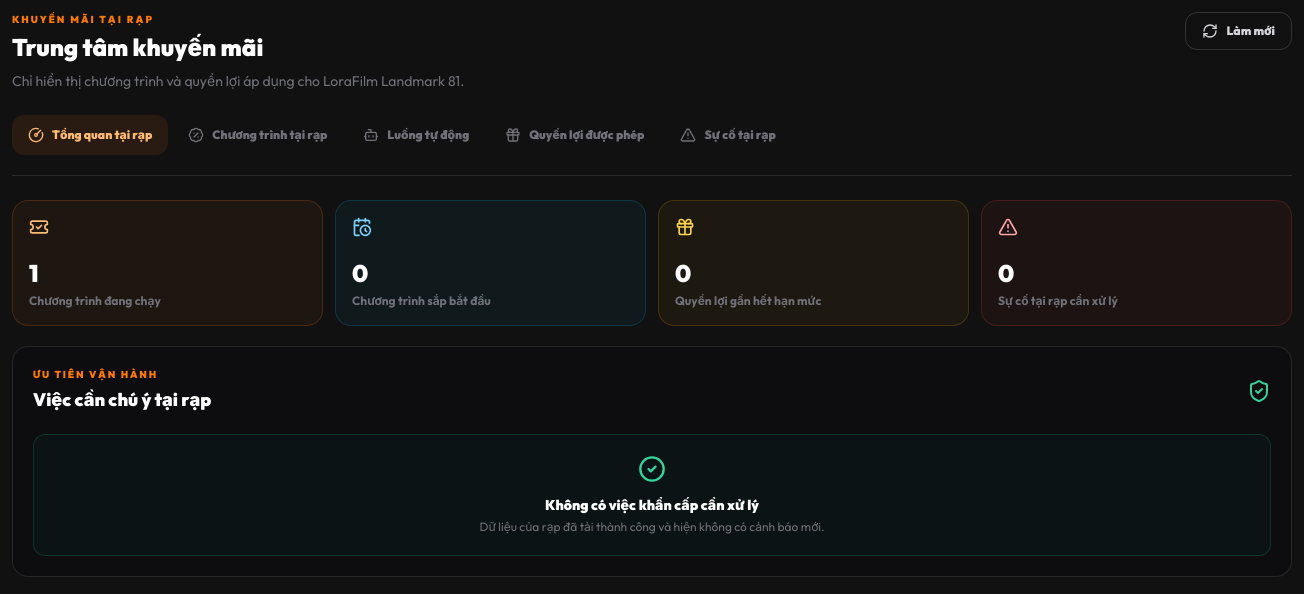
Test case: ManagerPromotionCenterPage › renders access denied without a false empty success when a request returns 403
Check: the text "Không có việc khẩn cấp cần xử lý" is shown, box [545,496,759,514]
Click the button "Chương trình tại rạp".
click(258, 135)  # box [172,115,343,155]
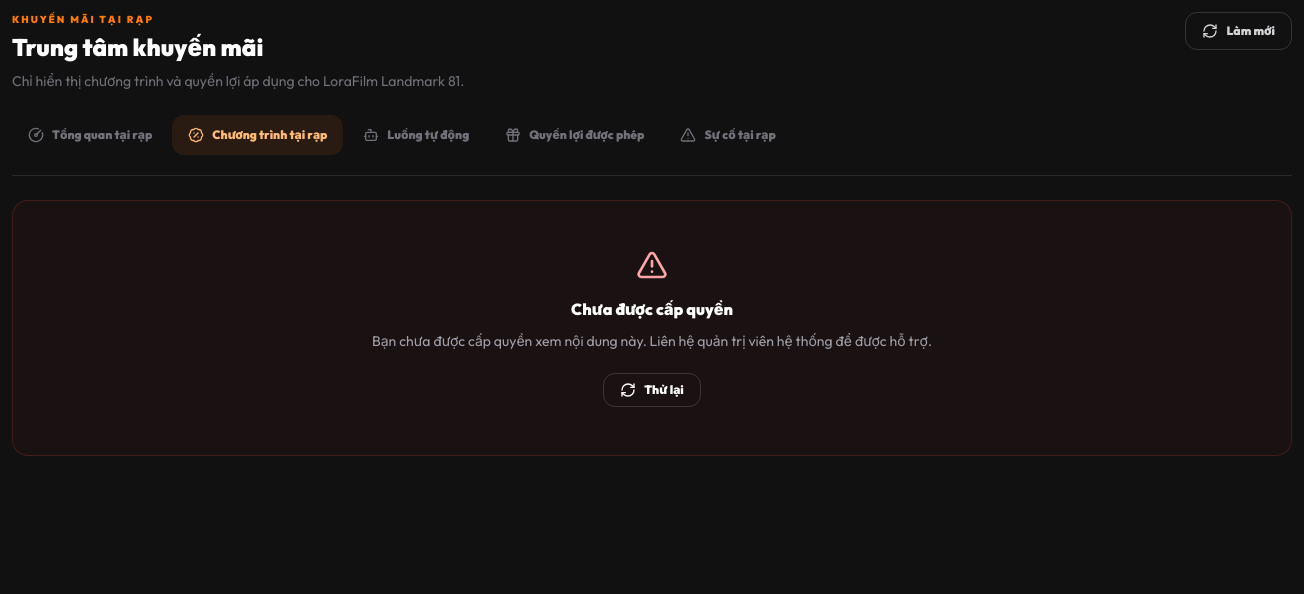
Check: the heading "Chưa được cấp quyền" is shown, box [571,297,733,321]
Check: the text "Liên hệ quản trị viên hệ thống" is shown, box [372,332,932,350]
